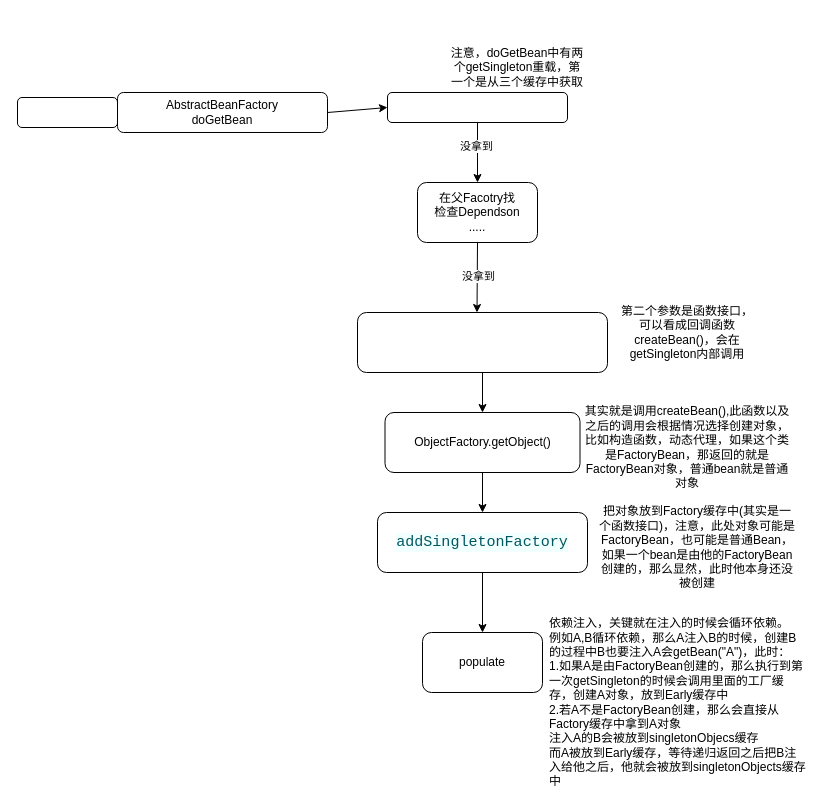
The diagram is 825 pixels wide and 806 high, and some of its shapes have lost their labels. The shapes that lost their labels are listed below. From the top down, each one's centre as x and y in pixels, then its label:
the point at 67,112: getBean
the point at 477,107: getSingleton(beanName)
the point at 482,342: getsingleton(beanName, ObjectFactory)
